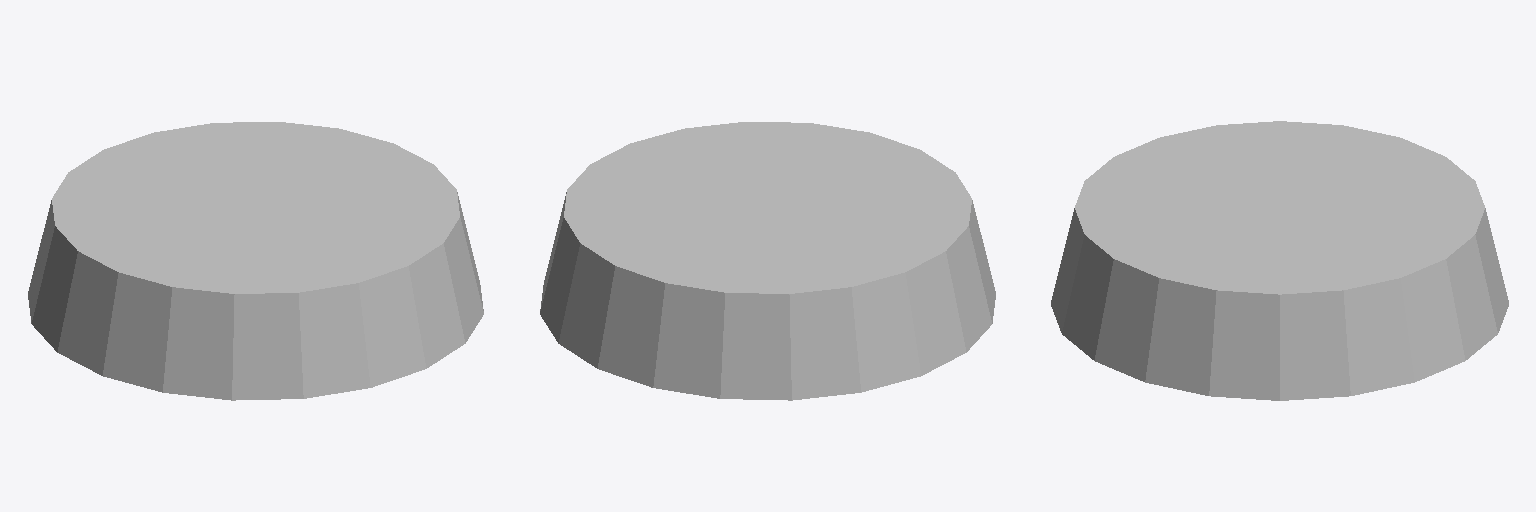
File: Pedistal.obj
3 renders of one model, left to right at view 1: azimuth 30°, elevation 25°; view 2: azimuth 150°, elevation 25°; view 3: azimuth 270°, elevation 25°, orthographic.
Parts seen in each view (by area): view 1: pCylinder1; view 2: pCylinder1; view 3: pCylinder1.
Part boxes in pixels (x1,y1,x2,y2): pCylinder1: (28, 122, 483, 400); pCylinder1: (540, 122, 995, 400); pCylinder1: (1051, 121, 1508, 400).
Size of the model in its own units: 2 by 0.4631 by 2.